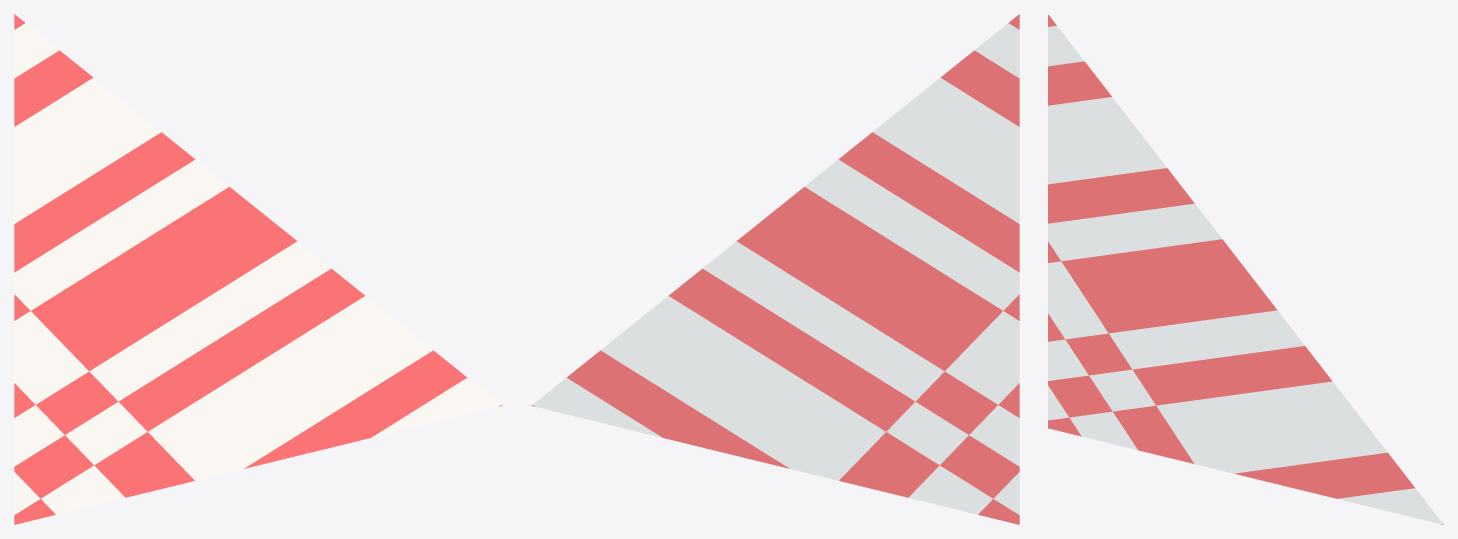
The model's file is pbr.gltf.
The picture shows the model from 3 angles, left to right: view 1: azimuth 30°, elevation 25°; view 2: azimuth 150°, elevation 25°; view 3: azimuth 330°, elevation 25°; orthographic projection. The views are drawn at different scales.
Parts seen in each view (by area): view 1: pbr_node; view 2: pbr_node; view 3: pbr_node.
Part boxes in pixels (bbox=[...]): pbr_node: bbox=[14, 14, 502, 524]; pbr_node: bbox=[531, 14, 1019, 524]; pbr_node: bbox=[1048, 14, 1443, 524].
Size of the model in its own units: 1 by 1 by 0.
Materials: 1 (1 with a texture image).
